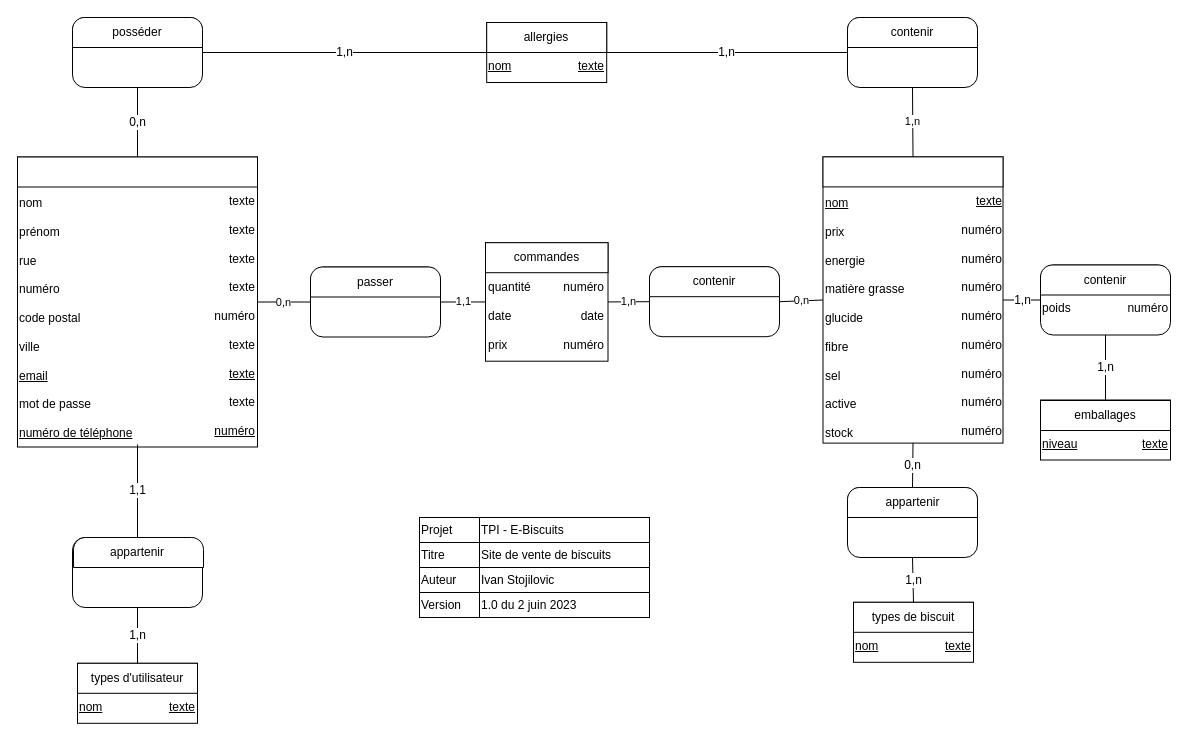
Image size: 1188x741. Some labels were removed from this diagram. The shapes that lost their labels are listed below. From the top down, each one's centre as x and y in pixels, then its label:
(x=137, y=171): utilisateurs
(x=912, y=171): biscuits
